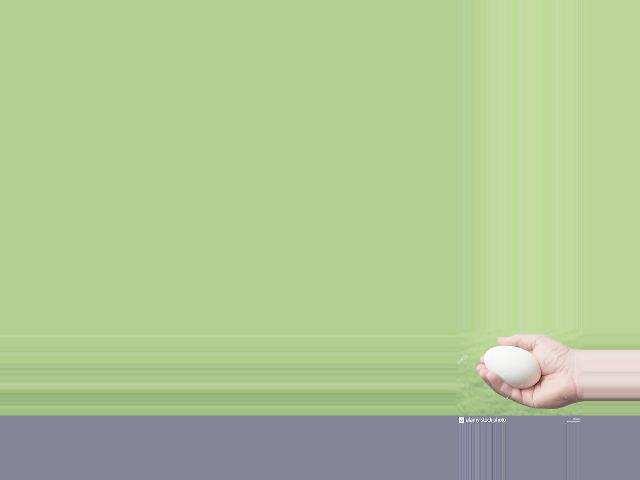egg: (484, 345, 542, 389)
